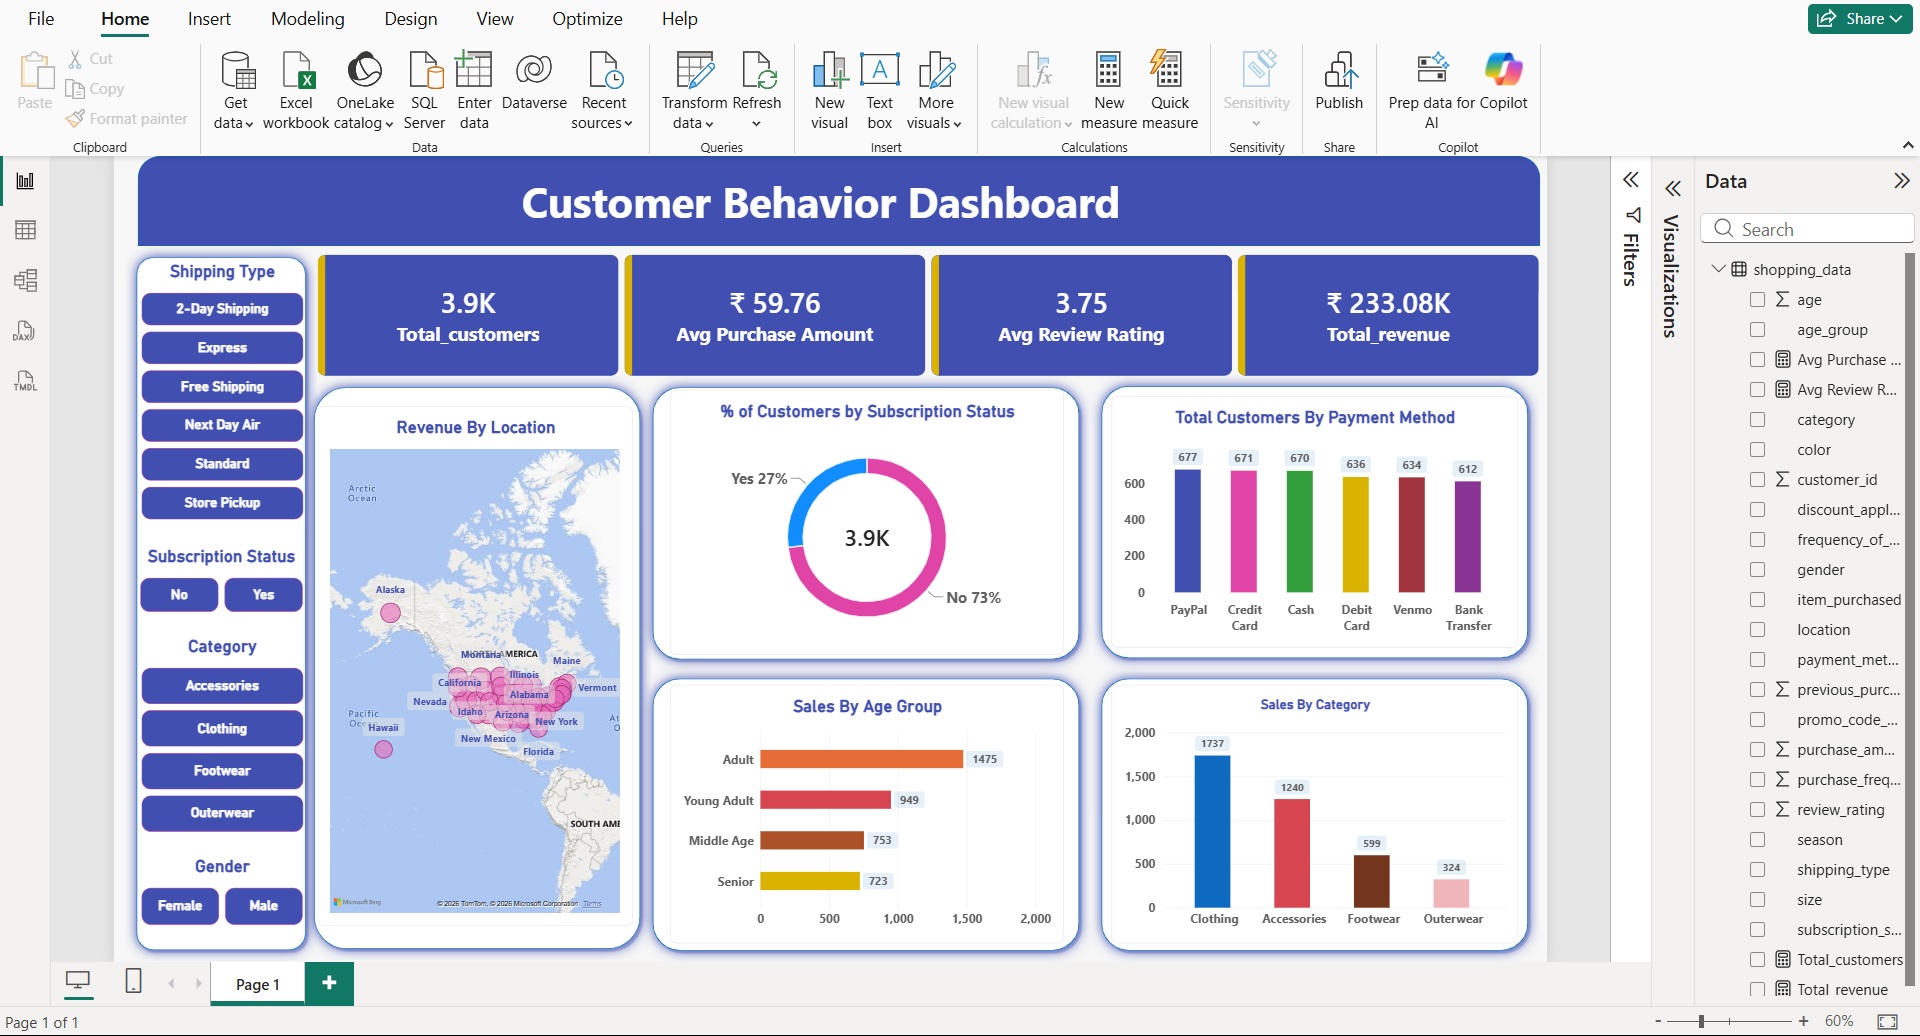

The dashboard page shown, as its layout file describes it:
{"tool":"powerbi","page":{"name":"Page 1","canvas":[1920,1080],"ordinal":0},"visuals":[{"type":"cardVisual","fields":{"Data":["shopping_data.Total_customers","shopping_data.Avg Purchase Amount","shopping_data.Avg Review Rating","shopping_data.Total_revenue"]},"box":[272.4,132.8,1637.9,162.1],"z":0},{"type":"shape","box":[31,0,1879.3,120.7],"z":1},{"type":"textbox","box":[31,22.4,1831,98.3],"z":2},{"type":"shape","box":[706.9,294.8,601.7,394.8],"z":3},{"type":"donutChart","title":"% of Customers by Subscription Status","fields":{"Category":["shopping_data.subscription_status"],"Y":["CountNonNull(shopping_data.customer_id)"]},"box":[744.8,313.8,527.6,355.2],"z":4},{"type":"shape","box":[1308.6,684.5,601.7,394.8],"z":10},{"type":"shape","box":[1308.6,293.1,601.7,394.8],"z":11},{"type":"columnChart","title":"Total Customers By Payment Method","fields":{"Category":["shopping_data.payment_method"],"Y":["CountNonNull(shopping_data.customer_id)"]},"box":[1336.2,322.4,544.8,337.9],"z":12},{"type":"clusteredColumnChart","title":"Sales By Category","fields":{"Category":["shopping_data.category"],"Y":["CountNonNull(shopping_data.customer_id)"]},"box":[1336.2,708.6,544.8,346.6],"z":13},{"type":"shape","box":[15.5,120.7,256.9,958.6],"z":14},{"type":"advancedSlicerVisual","title":"Shipping Type","fields":{"Values":["shopping_data.shipping_type"]},"box":[36.2,141.4,217.2,346.6],"z":15},{"type":"advancedSlicerVisual","title":"Gender","fields":{"Values":["shopping_data.gender"]},"box":[36.2,937.9,217.2,93.1],"z":17},{"type":"advancedSlicerVisual","title":"Subscription Status","fields":{"Values":["shopping_data.subscription_status"]},"box":[36.2,524.1,217.2,91.4],"z":18},{"type":"advancedSlicerVisual","title":"Category","fields":{"Values":["shopping_data.category"]},"box":[36.2,643.1,217.2,263.8],"z":19},{"type":"shape","box":[706.9,684.5,601.7,394.8],"z":20},{"type":"shape","box":[253.4,294.8,467.2,782.8],"z":22},{"type":"map","title":"Revenue By Location","fields":{"Category":["shopping_data.location"],"Size":["shopping_data.Total_revenue"]},"box":[272.4,334.5,422.4,696.6],"z":23},{"type":"clusteredBarChart","title":"Sales By Age Group","fields":{"Category":["shopping_data.age_group"],"Y":["CountNonNull(shopping_data.customer_id)"]},"box":[744.8,708.6,527.6,346.6],"z":24}]}

Visuals, with their boxes on the page's 1920x1080 design canvas (x1, y1, x2, y2). These are canvas units, not pixel positions in the 1920x1036 screenshot, which may show the page scaled, cropped or inside an application window:
cardVisual - shopping_data.Total_customers x shopping_data.Avg Purchase Amount: x1=272, y1=133, x2=1910, y2=295
shape: x1=31, y1=0, x2=1910, y2=121
textbox: x1=31, y1=22, x2=1862, y2=121
shape: x1=707, y1=295, x2=1309, y2=690
"% of Customers by Subscription Status" donutChart: x1=745, y1=314, x2=1272, y2=669
shape: x1=1309, y1=684, x2=1910, y2=1079
shape: x1=1309, y1=293, x2=1910, y2=688
"Total Customers By Payment Method" columnChart: x1=1336, y1=322, x2=1881, y2=660
"Sales By Category" clusteredColumnChart: x1=1336, y1=709, x2=1881, y2=1055
shape: x1=16, y1=121, x2=272, y2=1079
"Shipping Type" advancedSlicerVisual: x1=36, y1=141, x2=253, y2=488
"Gender" advancedSlicerVisual: x1=36, y1=938, x2=253, y2=1031
"Subscription Status" advancedSlicerVisual: x1=36, y1=524, x2=253, y2=616
"Category" advancedSlicerVisual: x1=36, y1=643, x2=253, y2=907
shape: x1=707, y1=684, x2=1309, y2=1079
shape: x1=253, y1=295, x2=721, y2=1078
"Revenue By Location" map: x1=272, y1=334, x2=695, y2=1031
"Sales By Age Group" clusteredBarChart: x1=745, y1=709, x2=1272, y2=1055
